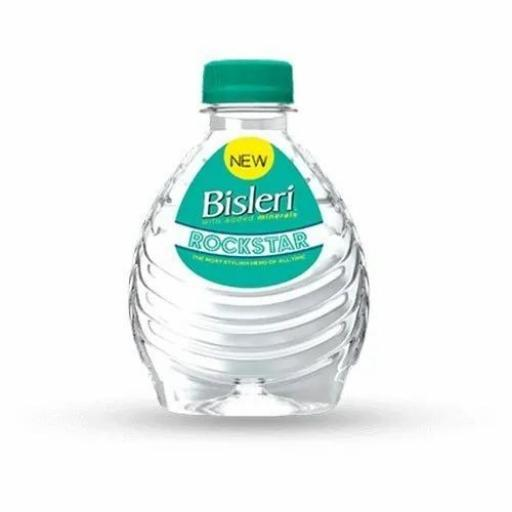bottle: (122, 54, 378, 428)
